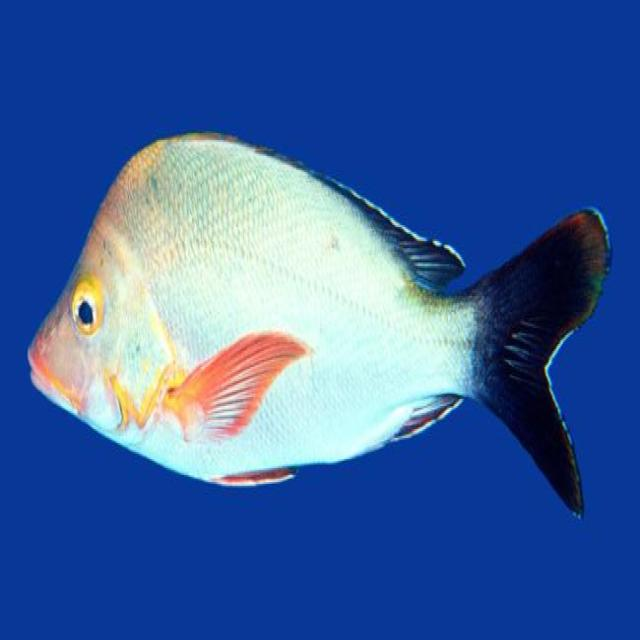ikan: (26, 128, 612, 518)
